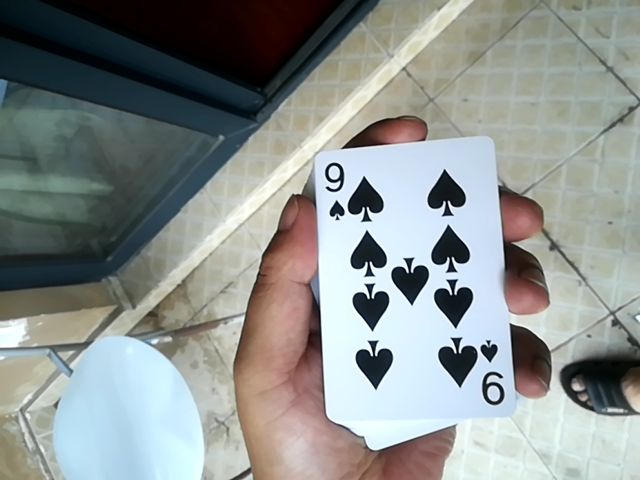ht 9: (311, 131, 512, 442)
